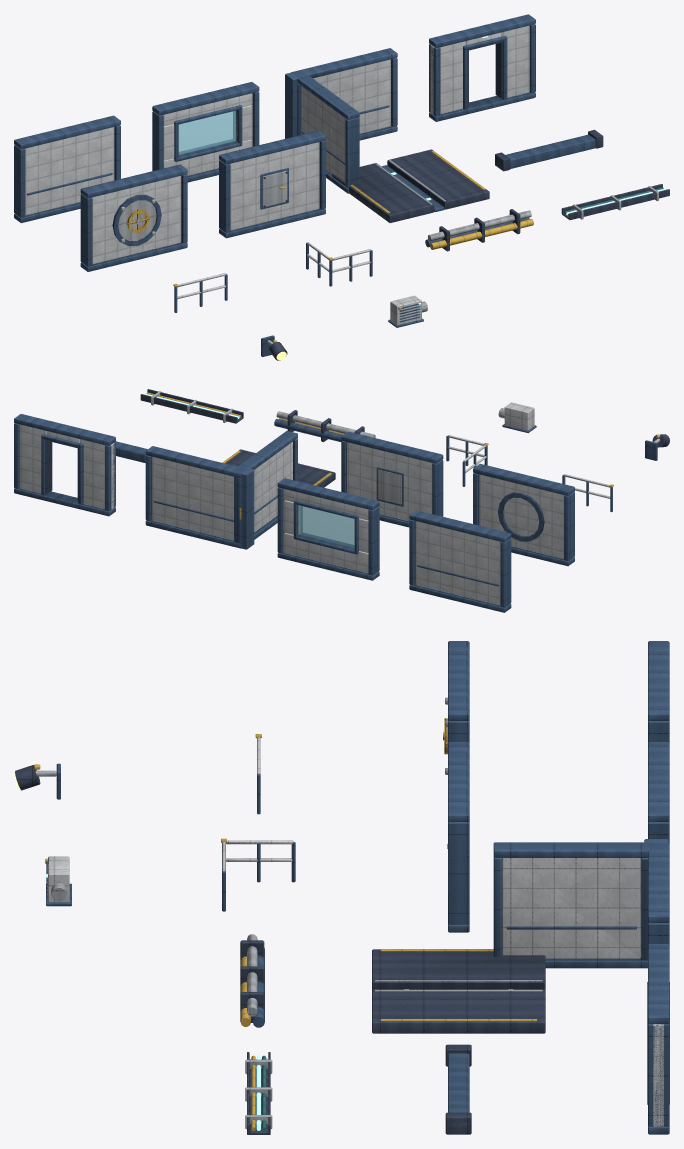
3 renders of one model, top to bottom at view 1: azimuth 30°, elevation 25°; view 2: azimuth 150°, elevation 25°; view 3: azimuth 270°, elevation 25°, orthographic. The views are drawn at different scales.
Parts seen in each view (by area): view 1: DL002_StationKit_hull_offwhite, DL002_StationKit_navy_frame, DL002_StationKit_graphite_navy, DL002_StationKit_titanium, DL002_StationKit_glass_cyan, DL002_StationKit_amber_accent; view 2: DL002_StationKit_hull_offwhite, DL002_StationKit_navy_frame, DL002_StationKit_graphite_navy, DL002_StationKit_glass_cyan, DL002_StationKit_titanium, DL002_StationKit_amber_accent; view 3: DL002_StationKit_navy_frame, DL002_StationKit_graphite_navy, DL002_StationKit_hull_offwhite, DL002_StationKit_titanium, DL002_StationKit_amber_accent.
Boxes of the visible parts, x1,y1,x2,y2 form: DL002_StationKit_hull_offwhite: (25,25,529,324); DL002_StationKit_navy_frame: (14,14,595,356); DL002_StationKit_graphite_navy: (263,42,669,360); DL002_StationKit_titanium: (118,160,658,345); DL002_StationKit_glass_cyan: (178,110,236,154); DL002_StationKit_amber_accent: (126,150,568,342); DL002_StationKit_hull_offwhite: (19,402,610,605); DL002_StationKit_navy_frame: (14,414,657,612); DL002_StationKit_graphite_navy: (45,389,669,502); DL002_StationKit_glass_cyan: (299,505,354,547); DL002_StationKit_titanium: (151,391,659,504); DL002_StationKit_amber_accent: (146,392,660,519); DL002_StationKit_navy_frame: (46,641,669,1134); DL002_StationKit_graphite_navy: (15,765,545,1134); DL002_StationKit_hull_offwhite: (48,737,663,1126); DL002_StationKit_titanium: (35,697,542,1129); DL002_StationKit_amber_accent: (34,718,536,1130).
Size of the model in its own units: 20.5 by 3.07 by 15.09.
9 materials, 6 textured.
